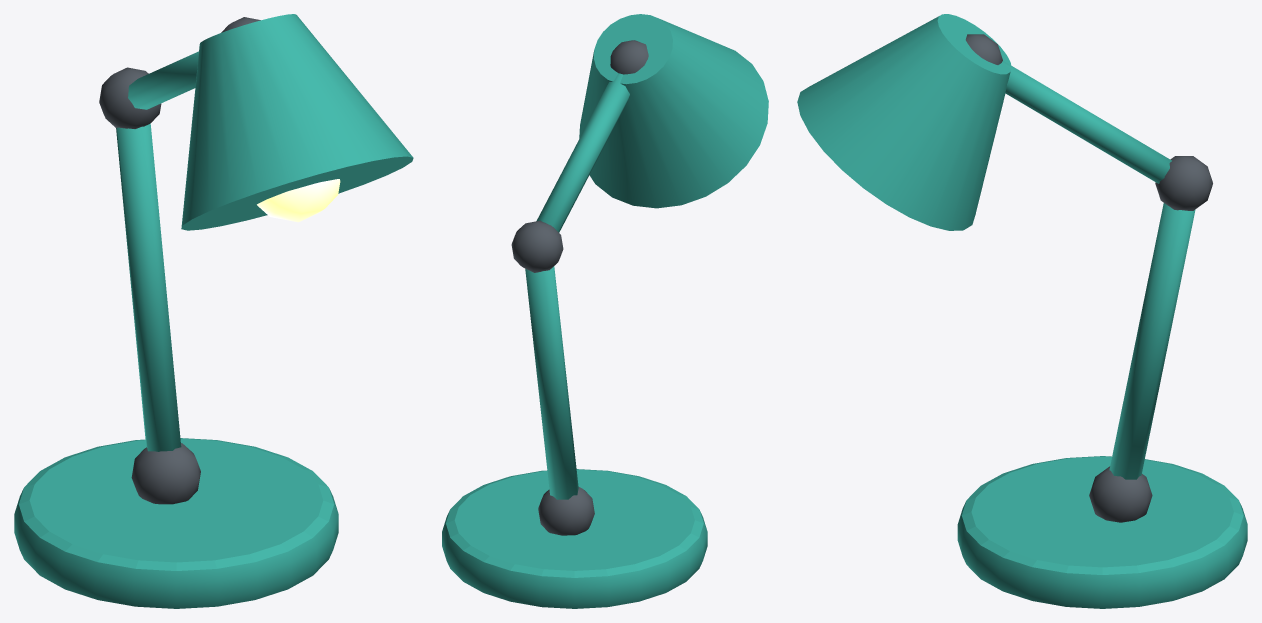
The model's file is luminaria-mesa.glb.
The picture shows the model from 3 angles, left to right: view 1: azimuth 30°, elevation 25°; view 2: azimuth 150°, elevation 25°; view 3: azimuth 270°, elevation 25°; orthographic projection. The views are drawn at different scales.
Visible parts, largest first — view 1: luminaria-mesa; view 2: luminaria-mesa; view 3: luminaria-mesa.
Boxes of the visible parts, x1,y1,x2,y2 form: luminaria-mesa: [14, 14, 413, 608]; luminaria-mesa: [442, 14, 768, 608]; luminaria-mesa: [797, 14, 1247, 608].
Size of the model in its own units: 0.32 by 0.6483 by 0.4971.
